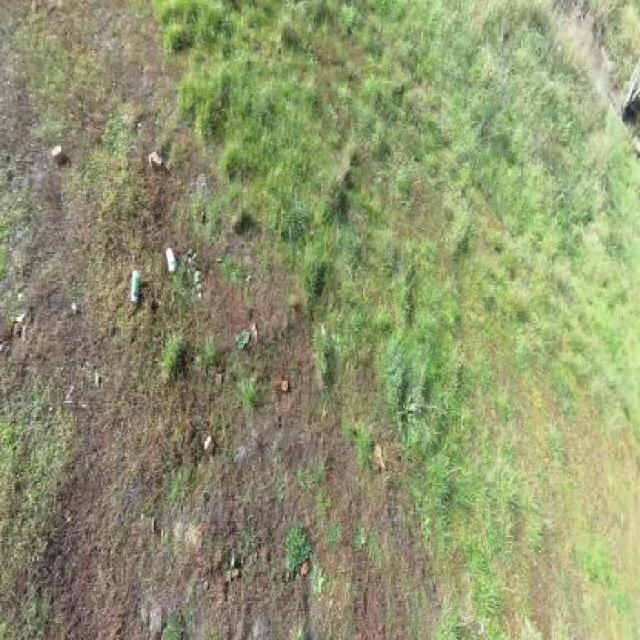Garbage: (148, 147, 164, 172), (51, 142, 66, 166), (165, 246, 178, 272), (131, 270, 140, 302), (203, 432, 215, 454), (280, 379, 288, 394), (190, 180, 194, 187)
